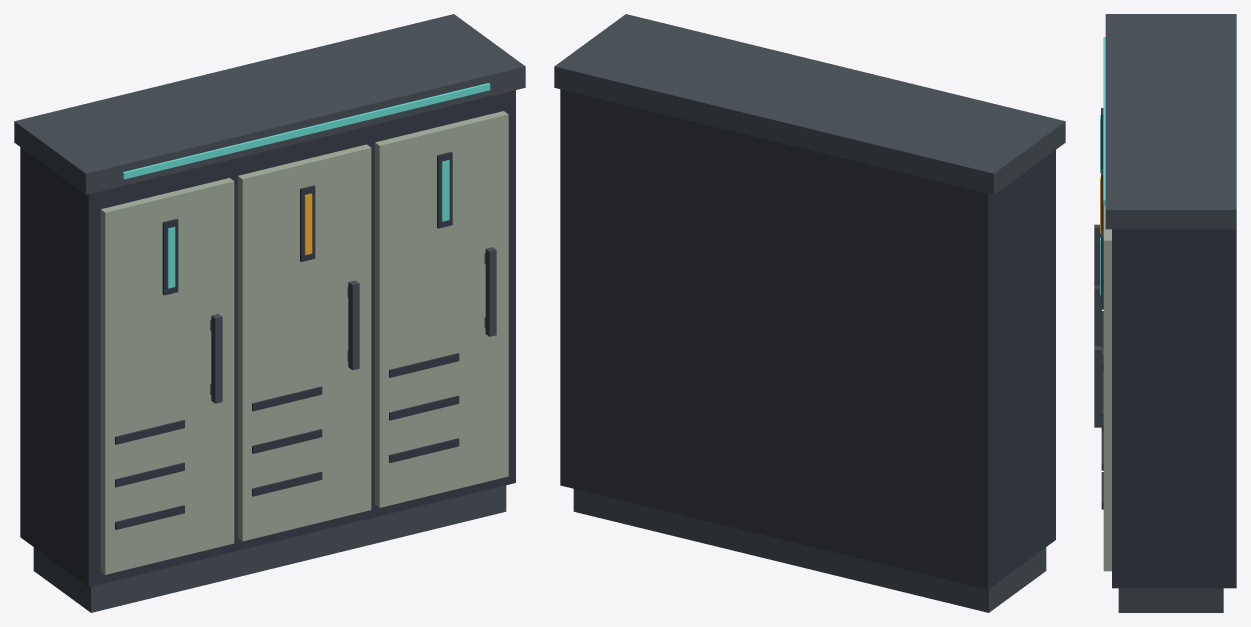
File: GV_ShipLockers_01.glb
The picture shows the model from 3 angles, left to right: view 1: azimuth 30°, elevation 25°; view 2: azimuth 150°, elevation 25°; view 3: azimuth 270°, elevation 25°; orthographic projection. The views are drawn at different scales.
Parts seen in each view (by area): view 1: GV_ShipLockers_01; view 2: GV_ShipLockers_01; view 3: GV_ShipLockers_01.
Part boxes in pixels (box(x1,y1,x2,y2)): GV_ShipLockers_01: box(14, 14, 525, 612); GV_ShipLockers_01: box(554, 14, 1065, 612); GV_ShipLockers_01: box(1094, 14, 1236, 612).
Bounding box in the file's own units: 2.16 × 2.1 × 0.6625.
1 material, 1 textured.
